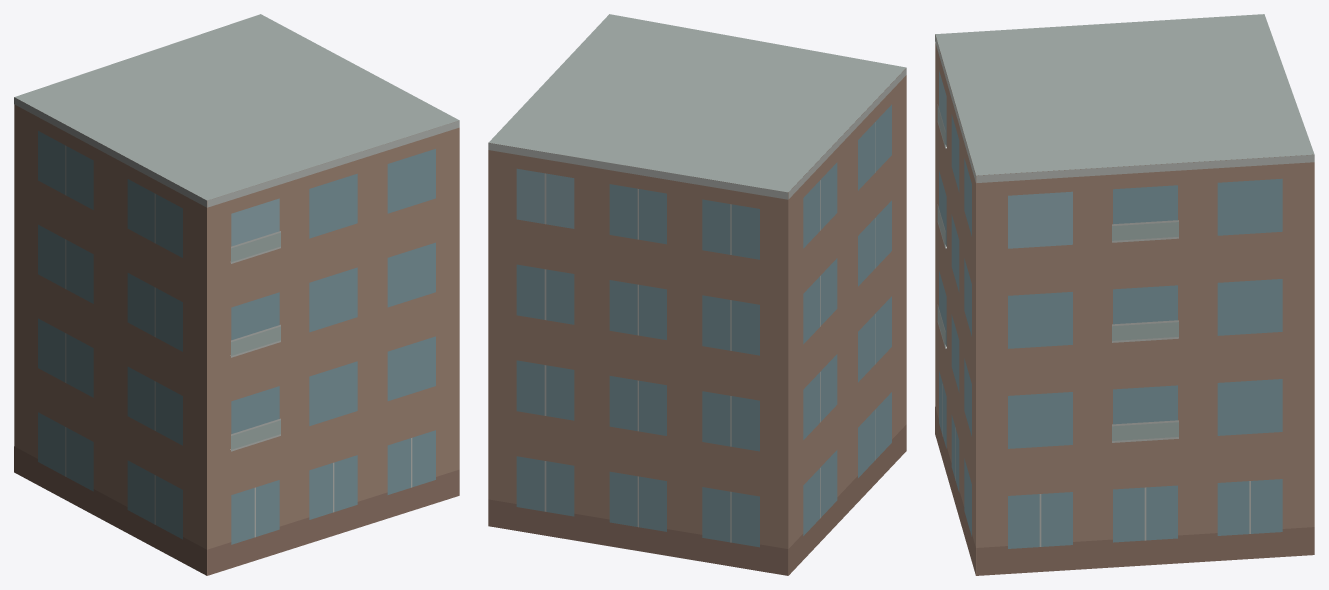
File: survey-upis-32634867.glb
3 views of the same model, side by side, from view 1: azimuth 30°, elevation 25°; view 2: azimuth 150°, elevation 25°; view 3: azimuth 270°, elevation 25° (orthographic). The views are drawn at different scales.
Visible parts, largest first — view 1: survey-upis-32634867.tmp; view 2: survey-upis-32634867.tmp; view 3: survey-upis-32634867.tmp.
Part boxes in pixels (<box>): survey-upis-32634867.tmp: <box>14,14,459,575</box>; survey-upis-32634867.tmp: <box>488,14,906,575</box>; survey-upis-32634867.tmp: <box>935,14,1314,575</box>.
Bounding box in the file's own units: 11.09 × 12.8 × 11.
